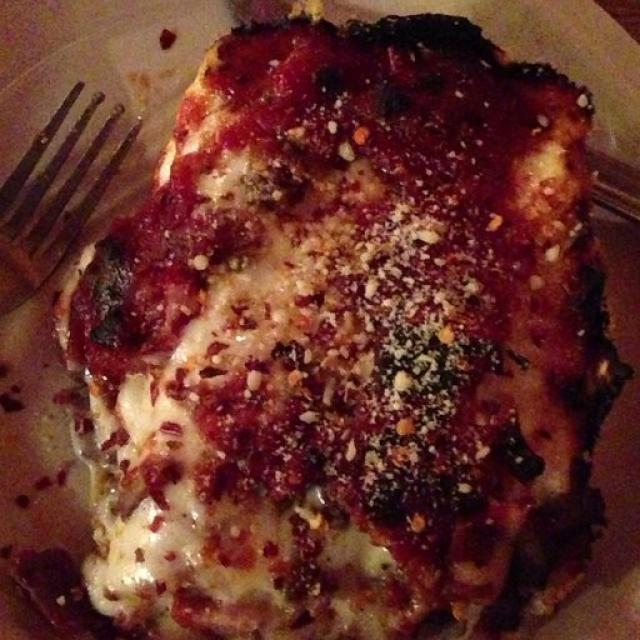Pizza: (65, 15, 630, 640)
